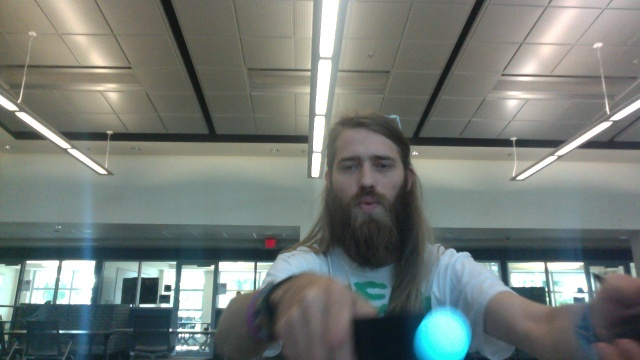wand: (414, 308, 472, 360)
